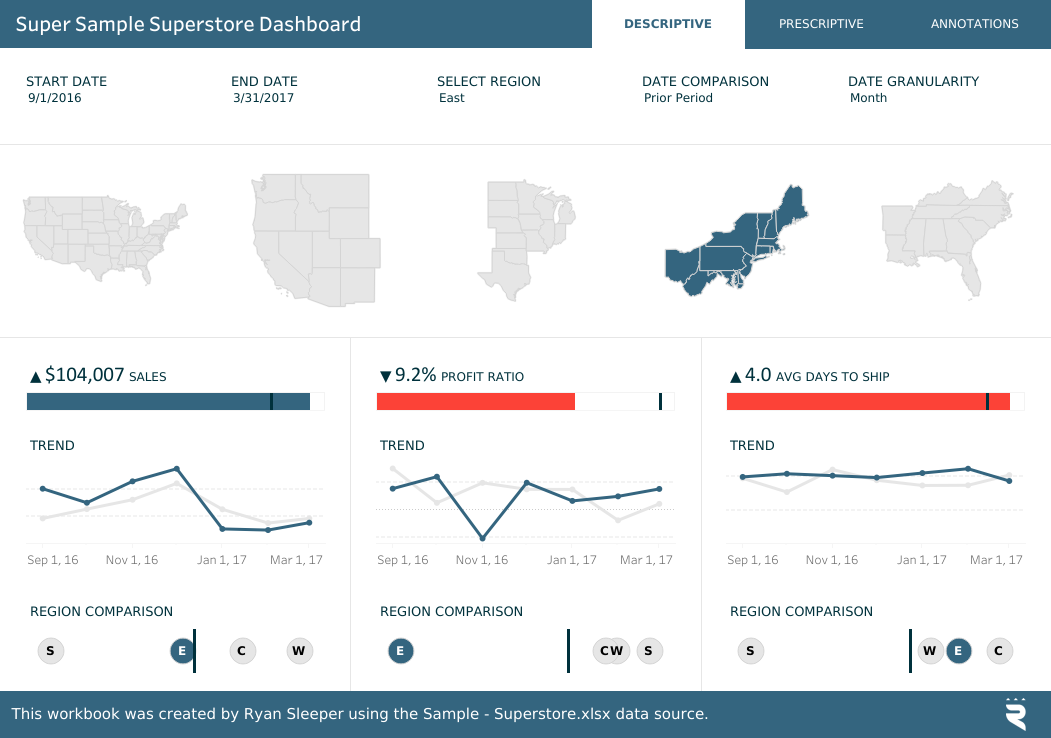

What the dashboard file says about the page in this screenshot:
{"tool":"tableau","page":{"name":"Super: Descriptive","canvas":[1000,1000],"units":"permille","ordinal":1},"visuals":[{"type":"text","box":[0,0,1000,65.1]},{"type":"worksheet","title":"Descriptive Button: Active","mark":"Automatic","box":[562.5,0,146.5,65.1]},{"type":"worksheet","title":"Prescriptive Button: Inactive","mark":"Automatic","box":[708,0,146.5,65.1]},{"type":"worksheet","title":"Annotations Button: Inactive","mark":"Automatic","box":[853.5,0,146.5,65.1]},{"type":"text","box":[12.7,10.4,437.5,40.4]},{"type":"parameter","param":"[Parameters].[Parameter 4]","box":[24.4,97.7,170.9,65.1]},{"type":"parameter","param":"[Parameters].[Start Date (copy)]","box":[219.7,97.7,170.9,65.1]},{"type":"parameter","param":"[Parameters].[Parameter 3]","box":[415,97.7,170.9,65.1]},{"type":"parameter","param":"[Parameters].[Parameter 6]","box":[610.4,97.7,170.9,65.1]},{"type":"parameter","param":"[Parameters].[Parameter 5]","box":[805.7,97.7,170.9,65.1]},{"type":"text","box":[0,195.3,1000,1.3]},{"type":"worksheet","title":"All US Map","mark":"Multipolygon","box":[0,227.9,200.2,195.3]},{"type":"worksheet","title":"West Map","mark":"Multipolygon","box":[200.2,227.9,200.2,195.3]},{"type":"worksheet","title":"Central Map","mark":"Multipolygon","box":[400.4,227.9,200.2,195.3]},{"type":"worksheet","title":"East Map","mark":"Multipolygon","box":[600.6,227.9,200.2,195.3]},{"type":"worksheet","title":"South Map","mark":"Multipolygon","box":[800.8,227.9,200.2,195.3]},{"type":"text","box":[0,455.7,1000,1.3]},{"type":"text","box":[333,455.7,1,479.2]},{"type":"text","box":[666,455.7,1,479.2]},{"type":"worksheet","title":"Sales Callout","mark":"Automatic","box":[24.4,480.5,284.2,49.5]},{"type":"worksheet","title":"Profit Ratio Callout","mark":"Automatic","box":[357.4,480.5,284.2,49.5]},{"type":"worksheet","title":"Days to Ship Difference","mark":"Automatic","box":[690.4,480.5,284.2,49.5]},{"type":"worksheet","title":"Sales Bullet","mark":"Automatic","cols":["Calculation_200128753924792328"],"box":[24.4,530,284.2,26]},{"type":"worksheet","title":"Profit Ratio Bullet","mark":"Automatic","cols":["Calculation_408983187798249472"],"box":[357.4,530,284.2,26]},{"type":"worksheet","title":"Days to Ship Bullet","mark":"Automatic","cols":["CP Discount (copy)"],"box":[690.4,530,284.2,26]},{"type":"worksheet","title":"Sales Trend","mark":"Automatic","cols":["Calculation_964614790693441536"],"box":[24.4,583.3,284.2,192.7]},{"type":"worksheet","title":"Profit Ratio Trend","mark":"Automatic","cols":["Calculation_964614790693441536"],"box":[357.4,583.3,284.2,192.7]},{"type":"worksheet","title":"Days to Ship Trend","mark":"Automatic","cols":["Calculation_964614790693441536"],"box":[690.4,583.3,284.2,192.7]},{"type":"worksheet","title":"Sales Region Comp","mark":"Circle","cols":["Calculation_200128753924792328"],"box":[24.4,807.3,284.2,102.9]},{"type":"worksheet","title":"Profit Ratio Region Comp","mark":"Circle","cols":["Calculation_408983187798249472"],"box":[357.4,807.3,284.2,102.9]},{"type":"worksheet","title":"Days to Ship Region Comp","mark":"Circle","cols":["CP Discount (copy)"],"box":[690.4,807.3,284.2,102.9]},{"type":"text","box":[0,934.9,1000,65.1]},{"type":"text","box":[8.8,944,756.8,44.3]},{"type":"image","param":"Image/Ryan Sleeper White R Logo.png","box":[937.5,944,57.6,45.6]}]}

Visuals, with their boxes on the dashboard's canvas, which has no fixed pixel size, in thousandths of its width and height (x1, y1, x2, y2). These are canvas units, not pixel positions in the 1051x738 screenshot, which may show the page scaled, cropped or inside an application window:
text: Rect(0, 0, 1000, 65)
"Descriptive Button: Active" worksheet: Rect(562, 0, 709, 65)
"Prescriptive Button: Inactive" worksheet: Rect(708, 0, 854, 65)
"Annotations Button: Inactive" worksheet: Rect(854, 0, 1000, 65)
text: Rect(13, 10, 450, 51)
parameter: Rect(24, 98, 195, 163)
parameter: Rect(220, 98, 391, 163)
parameter: Rect(415, 98, 586, 163)
parameter: Rect(610, 98, 781, 163)
parameter: Rect(806, 98, 977, 163)
text: Rect(0, 195, 1000, 197)
"All US Map" worksheet (Multipolygon marks): Rect(0, 228, 200, 423)
"West Map" worksheet (Multipolygon marks): Rect(200, 228, 400, 423)
"Central Map" worksheet (Multipolygon marks): Rect(400, 228, 601, 423)
"East Map" worksheet (Multipolygon marks): Rect(601, 228, 801, 423)
"South Map" worksheet (Multipolygon marks): Rect(801, 228, 1001, 423)
text: Rect(0, 456, 1000, 457)
text: Rect(333, 456, 334, 935)
text: Rect(666, 456, 667, 935)
"Sales Callout" worksheet: Rect(24, 480, 309, 530)
"Profit Ratio Callout" worksheet: Rect(357, 480, 642, 530)
"Days to Ship Difference" worksheet: Rect(690, 480, 975, 530)
"Sales Bullet" worksheet: Rect(24, 530, 309, 556)
"Profit Ratio Bullet" worksheet: Rect(357, 530, 642, 556)
"Days to Ship Bullet" worksheet: Rect(690, 530, 975, 556)
"Sales Trend" worksheet: Rect(24, 583, 309, 776)
"Profit Ratio Trend" worksheet: Rect(357, 583, 642, 776)
"Days to Ship Trend" worksheet: Rect(690, 583, 975, 776)
"Sales Region Comp" worksheet (Circle marks): Rect(24, 807, 309, 910)
"Profit Ratio Region Comp" worksheet (Circle marks): Rect(357, 807, 642, 910)
"Days to Ship Region Comp" worksheet (Circle marks): Rect(690, 807, 975, 910)
text: Rect(0, 935, 1000, 1000)
text: Rect(9, 944, 766, 988)
image: Rect(938, 944, 995, 990)
